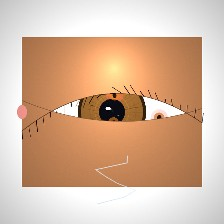foreign_body_visible: (99, 111, 128, 134)
